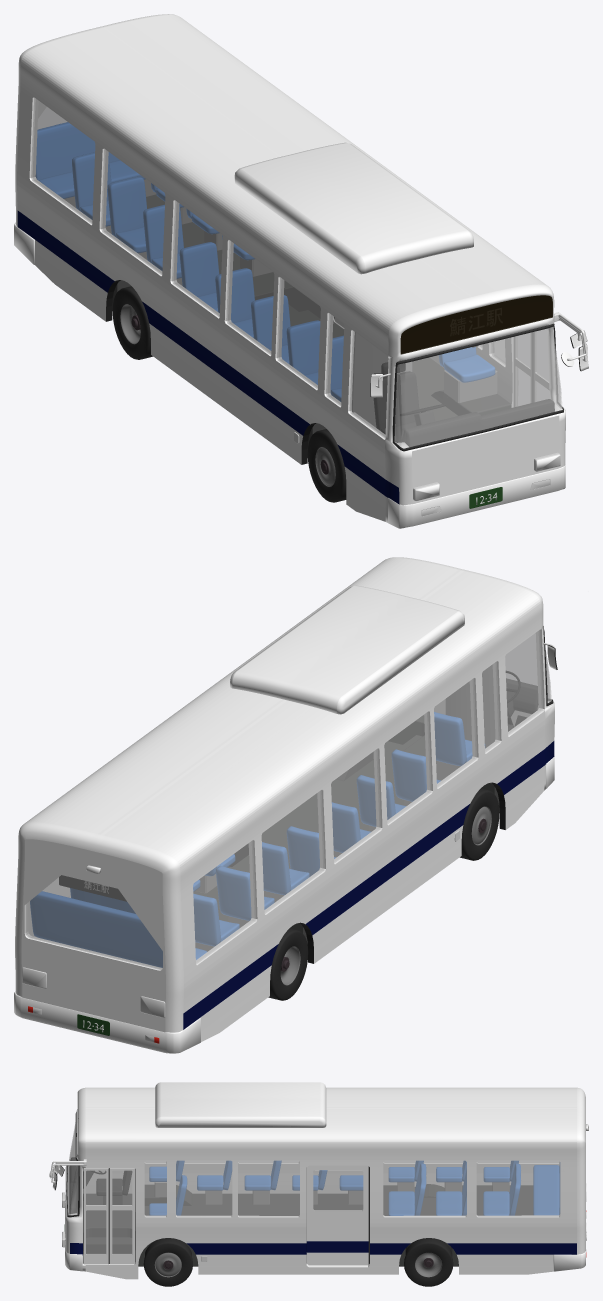
Rendered from bus.fbx.
The picture shows the model from 3 angles, top to bottom: view 1: azimuth 30°, elevation 25°; view 2: azimuth 150°, elevation 25°; view 3: azimuth 270°, elevation 25°; orthographic projection. The views are drawn at different scales.
Parts seen in each view (by area): view 1: Body, AirConditioner, Glass.013, Seats, Glass.006, Glass.007, Seats.002, DestinationSignCover, Glass.008, Glass.009, Chassis, Glass.010 (+16 smaller); view 2: Body, AirConditioner, Glass.005, Seats.003, Seats, Glass.006, Glass.007, Seats.002, Chassis, Glass.008, Glass.009, Glass.010 (+11 smaller); view 3: Body, AirConditioner, Chassis, Glass.004, Glass.003, MainDoor, Glass.002, Glass.001, Seats.001, Cube.040, TyreRearLeft, TyreLeftFront (+18 smaller).
Part boxes in pixels (x1=…): Body: x1=15, y1=14, x2=565, y2=528; AirConditioner: x1=234, y1=142, x2=473, y2=274; Glass.013: x1=394, y1=327, x2=562, y2=448; Seats: x1=180, y1=242, x2=319, y2=384; Glass.006: x1=31, y1=97, x2=95, y2=223; Glass.007: x1=101, y1=149, x2=165, y2=274; Seats.002: x1=72, y1=152, x2=183, y2=278; DestinationSignCover: x1=400, y1=295, x2=552, y2=354; Glass.008: x1=172, y1=200, x2=222, y2=317; Glass.009: x1=226, y1=240, x2=274, y2=354; Chassis: x1=112, y1=195, x2=457, y2=449; Glass.010: x1=277, y1=277, x2=320, y2=388; Body: x1=15, y1=557, x2=554, y2=1053; AirConditioner: x1=230, y1=585, x2=464, y2=714; Glass.005: x1=26, y1=875, x2=162, y2=969; Seats.003: x1=30, y1=891, x2=206, y2=967; Seats: x1=287, y1=749, x2=440, y2=876; Glass.006: x1=193, y1=840, x2=255, y2=964; Glass.007: x1=261, y1=790, x2=324, y2=913; Seats.002: x1=193, y1=842, x2=309, y2=945; Chassis: x1=193, y1=715, x2=499, y2=943; Glass.008: x1=331, y1=748, x2=380, y2=863; Glass.009: x1=384, y1=712, x2=430, y2=824; Glass.010: x1=434, y1=678, x2=476, y2=787; Body: x1=65, y1=1087, x2=585, y2=1279; AirConditioner: x1=155, y1=1082, x2=326, y2=1127; Chassis: x1=83, y1=1185, x2=532, y2=1266; Glass.004: x1=476, y1=1160, x2=560, y2=1216; Glass.003: x1=383, y1=1160, x2=466, y2=1216; MainDoor: x1=306, y1=1165, x2=369, y2=1265; Glass.002: x1=238, y1=1160, x2=299, y2=1216; Glass.001: x1=176, y1=1160, x2=232, y2=1216; Seats.001: x1=389, y1=1163, x2=520, y2=1215; Cube.040: x1=313, y1=1170, x2=363, y2=1211; TyreRearLeft: x1=404, y1=1238, x2=453, y2=1286; TyreLeftFront: x1=143, y1=1238, x2=192, y2=1286.
Bounding box in the file's own units: 2.54 × 2.98 × 9.6.
